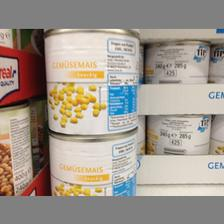Mais: (43, 29, 139, 134), (46, 129, 138, 195), (144, 113, 212, 153), (144, 42, 208, 82)
